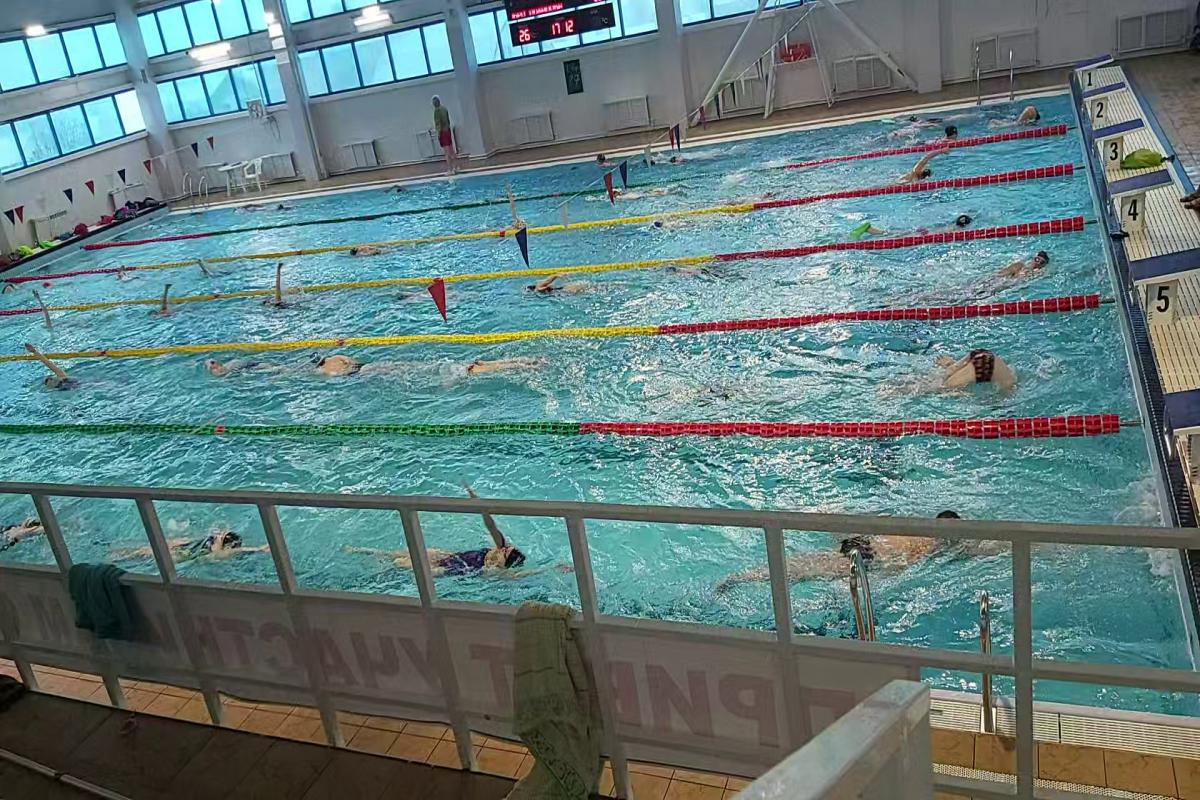swimmer: (792, 528, 963, 590), (894, 336, 1028, 407), (430, 522, 566, 590), (958, 239, 1063, 302), (164, 526, 266, 573), (300, 347, 423, 384), (19, 346, 102, 395), (848, 207, 983, 237), (442, 350, 547, 380), (518, 274, 616, 304), (196, 353, 288, 384), (256, 261, 304, 315), (895, 142, 957, 182), (3, 507, 39, 554), (144, 284, 186, 320), (341, 240, 391, 265)
